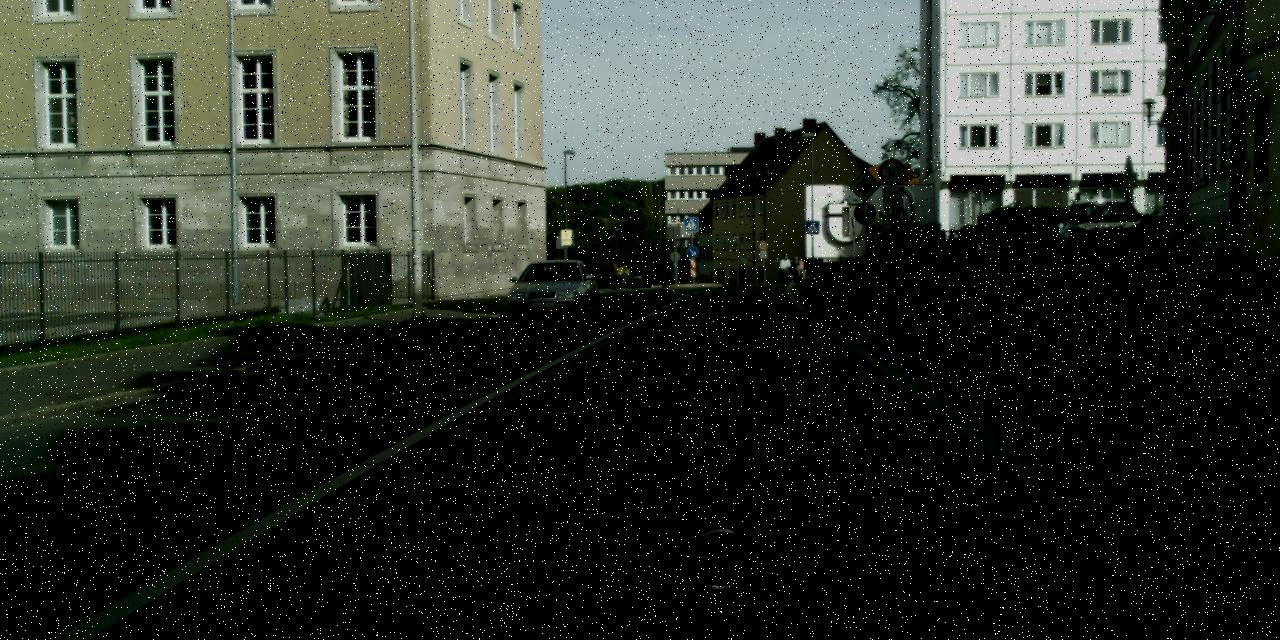ped: (792, 254, 806, 284), (780, 256, 790, 284), (728, 275, 735, 291)
